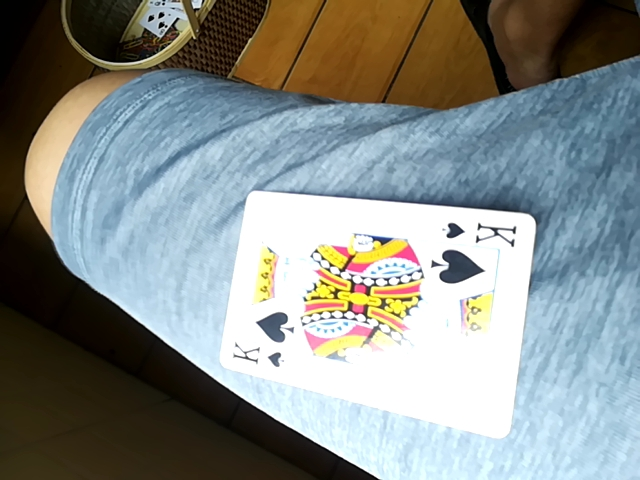ht k: (216, 186, 535, 436)
